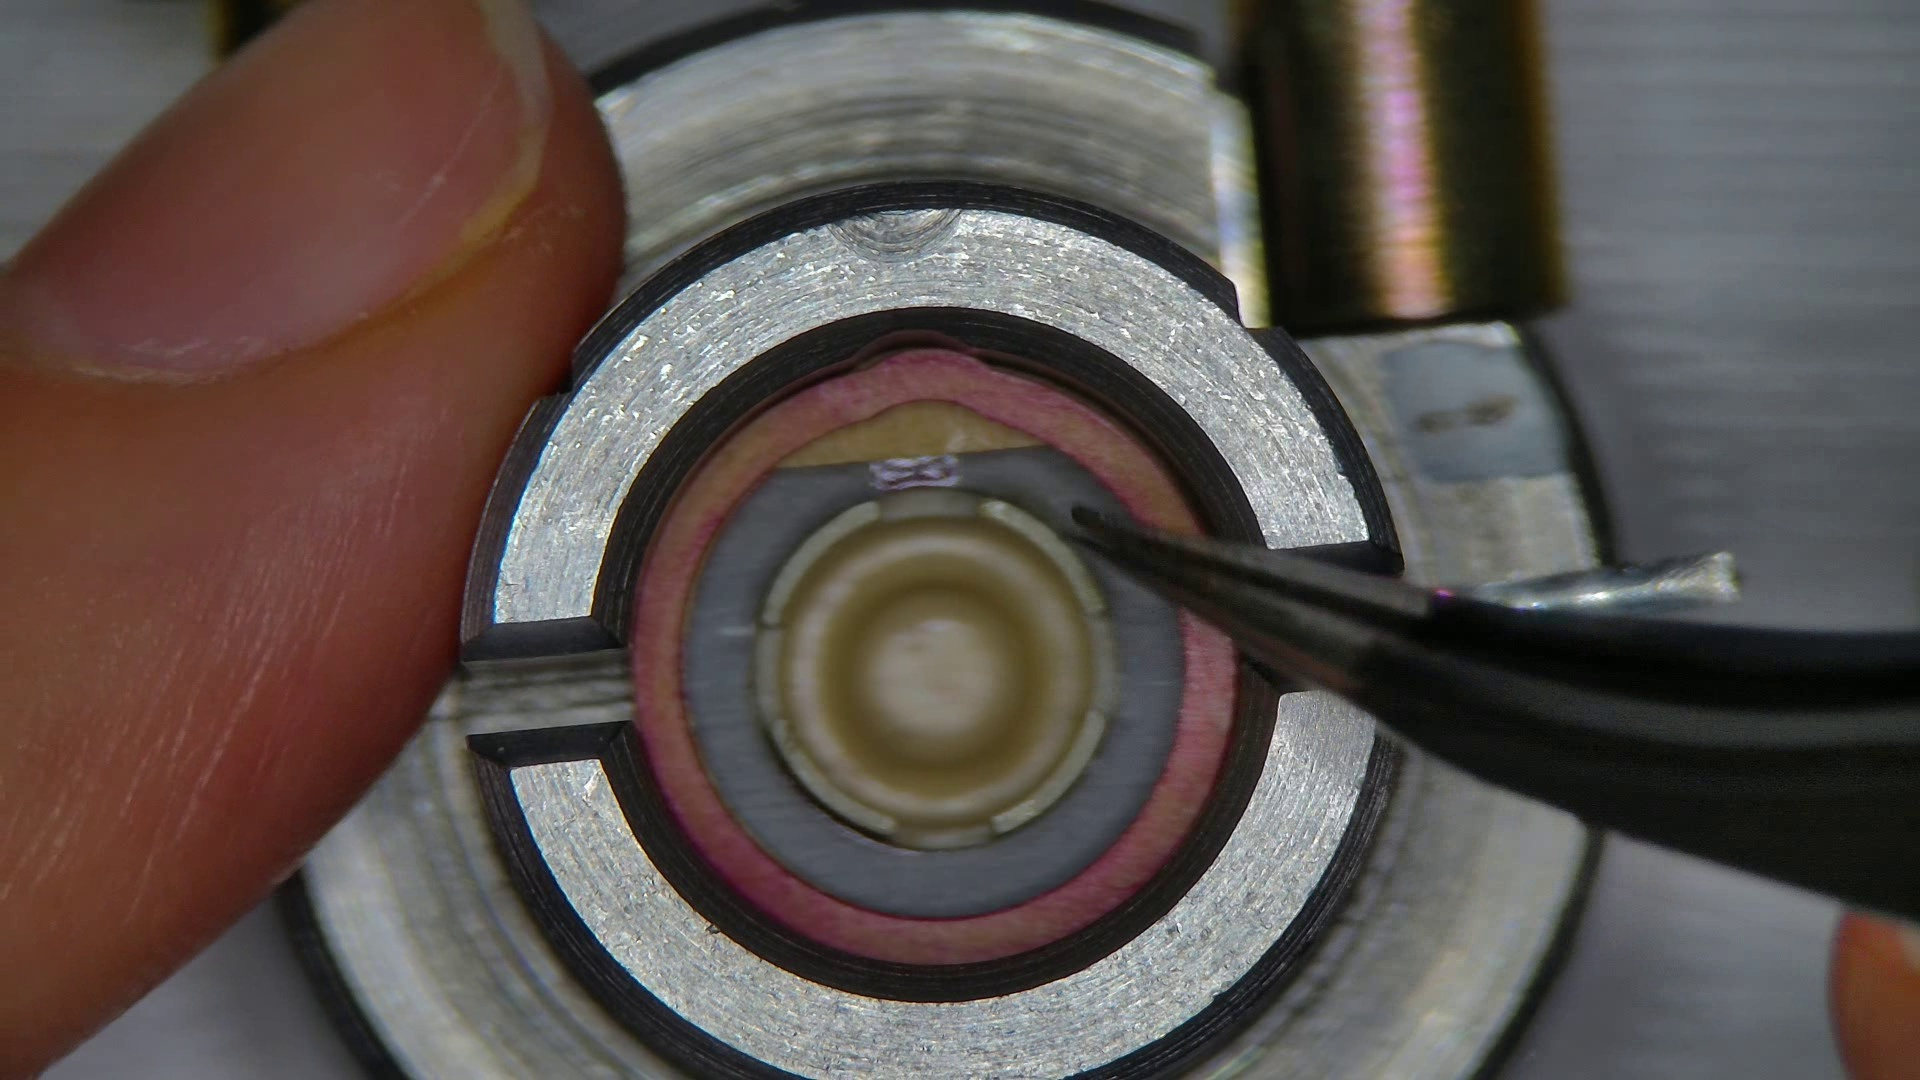GreyOring: (634, 345, 1230, 965)
YellowOring: (686, 452, 1182, 916)
redOring: (785, 404, 1040, 462)
